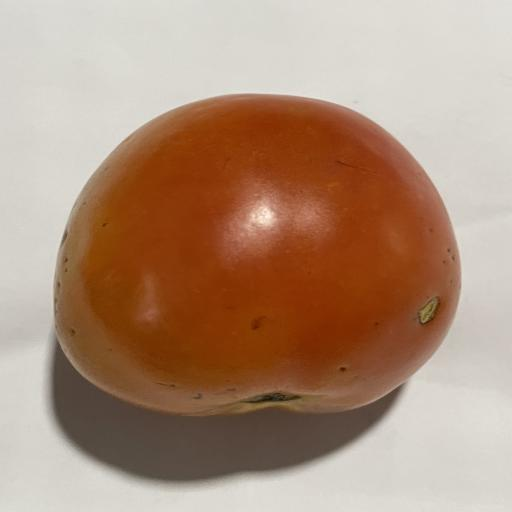ripe: (54, 94, 460, 415)
